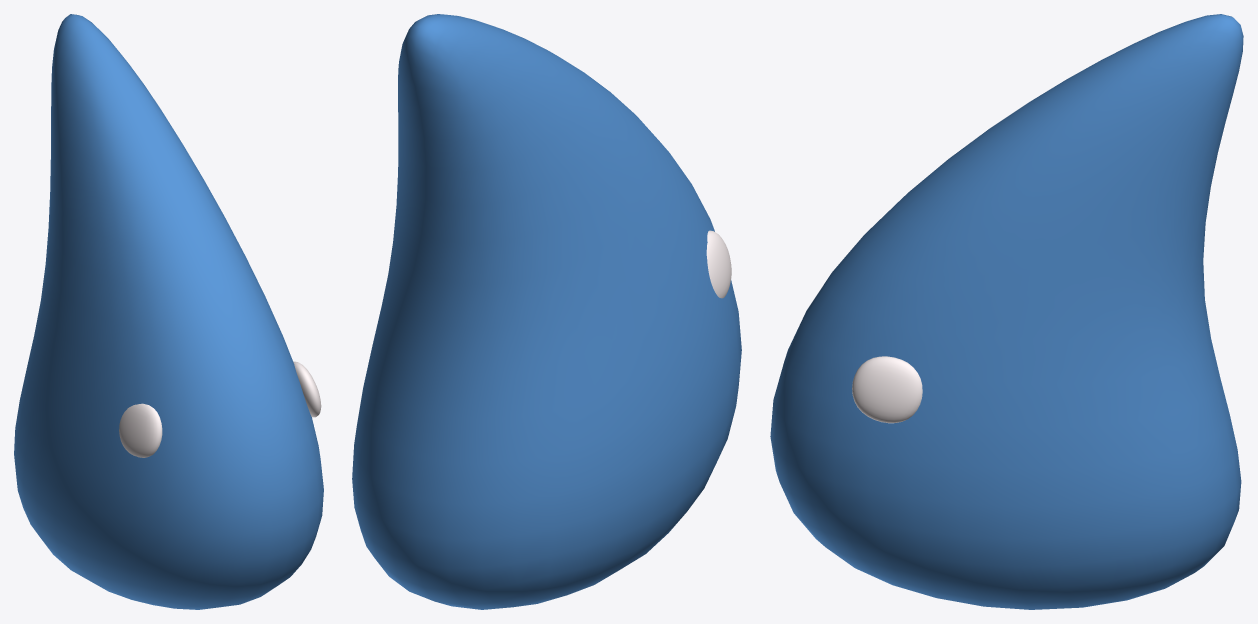
File: wisp.glb
3 renders of one model, left to right at view 1: azimuth 30°, elevation 25°; view 2: azimuth 150°, elevation 25°; view 3: azimuth 270°, elevation 25°, orthographic. The views are drawn at different scales.
Parts seen in each view (by area): view 1: wisp.001; view 2: wisp.001; view 3: wisp.001.
Boxes of the visible parts, x1=… form: wisp.001: x1=14, y1=14, x2=323, y2=609; wisp.001: x1=352, y1=14, x2=741, y2=609; wisp.001: x1=770, y1=14, x2=1243, y2=609.
Size of the model in its own units: 1.35 by 2.87 by 2.14.
